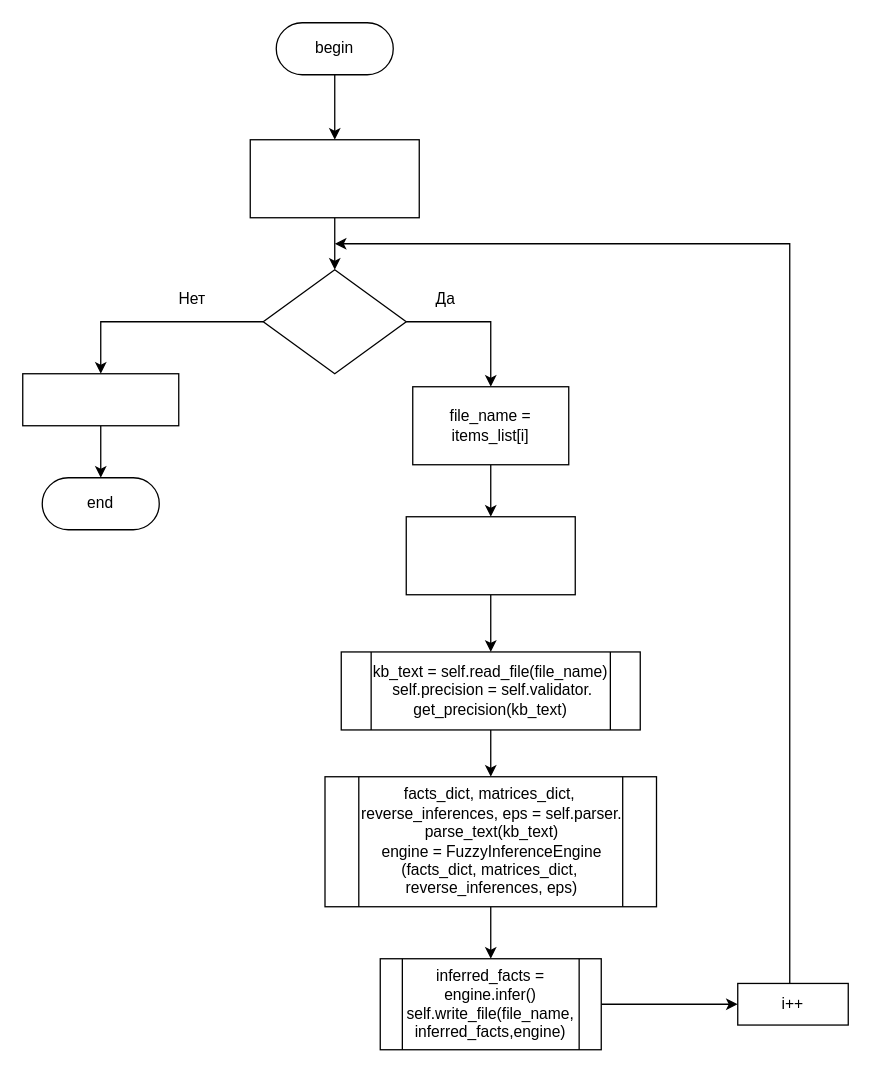
Some shapes in this 871 by 1073 pixel diagram are drawn without their labels. The shapes that lost their labels are listed below. From the top down, each one's box as (x1, y1, x2, y2) in pixels, then its label:
(249, 138, 419, 218): items_list = list(self.files) i=0
(262, 268, 406, 374): i<len(items_list)
(21, 372, 179, 426): return
(405, 515, 575, 595): print(f"\nProcessing file: {file_name}\n{'-' * 40}")
